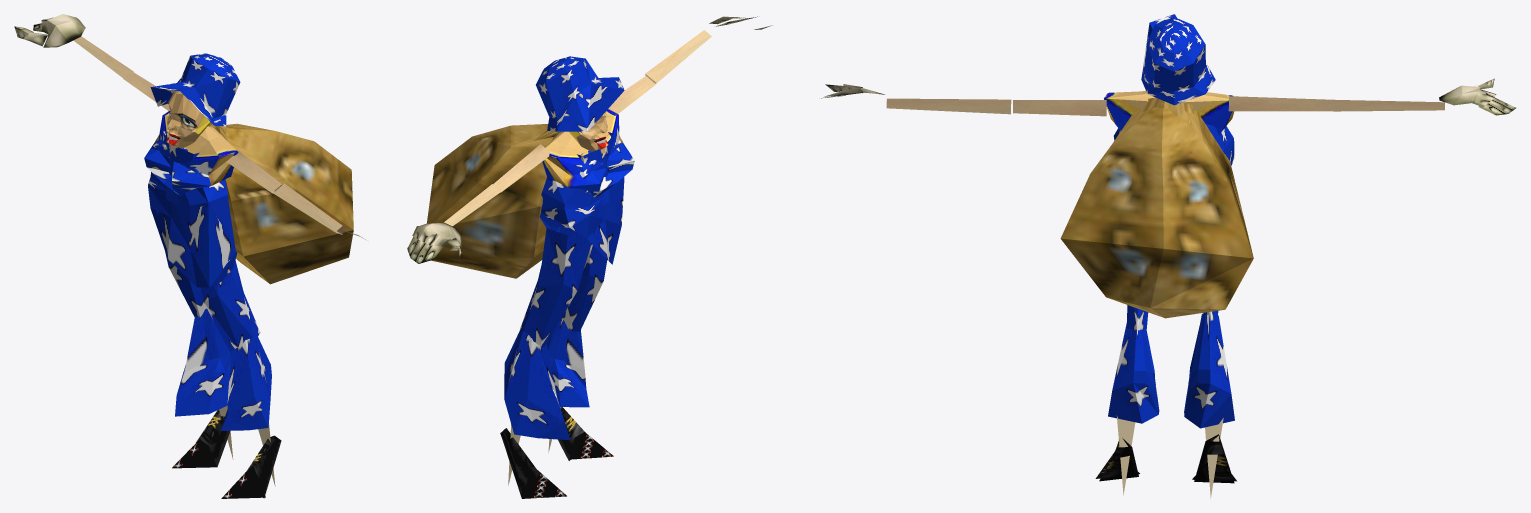
Rendered from NiclaByron_2943.glb.
3 views of the same model, side by side, from view 1: azimuth 30°, elevation 25°; view 2: azimuth 150°, elevation 25°; view 3: azimuth 270°, elevation 25° (orthographic). The views are drawn at different scales.
Visible parts, largest first — view 1: Bag3, pSphereShape4, polySurfaceShape96, polySurfaceShape98, pSphereShape2, pSphereShape20, polySurfaceShape68, polySurfaceShape1, polySurfaceShape60, polySurfaceShape71, pCylinderShape13, polySurfaceShape70 (+7 smaller); view 2: Bag3, polySurfaceShape96, polySurfaceShape97, pSphereShape20, pSphereShape4, pSphereShape2, polySurfaceShape98, polySurfaceShape68, pCylinderShape7, polySurfaceShape71, polySurfaceShape72, polySurfaceShape1 (+9 smaller); view 3: Bag3, pSphereShape20, polySurfaceShape96, polySurfaceShape98, pSphereShape2, polySurfaceShape71, polySurfaceShape72, polySurfaceShape70, polySurfaceShape73, pCylinderShape7, pCylinderShape13.
Part boxes in pixels (<box>): Bag3: <box>225,123,353,284</box>; pSphereShape4: <box>148,139,237,287</box>; polySurfaceShape96: <box>175,308,231,416</box>; polySurfaceShape98: <box>220,335,271,430</box>; pSphereShape2: <box>144,111,238,196</box>; pSphereShape20: <box>150,53,240,126</box>; polySurfaceShape68: <box>201,260,260,354</box>; polySurfaceShape1: <box>166,80,211,149</box>; polySurfaceShape60: <box>43,14,85,47</box>; polySurfaceShape71: <box>273,183,342,234</box>; pCylinderShape13: <box>246,435,281,498</box>; polySurfaceShape70: <box>226,151,281,193</box>; Bag3: <box>427,124,553,278</box>; polySurfaceShape96: <box>504,329,570,440</box>; polySurfaceShape97: <box>520,226,595,347</box>; pSphereShape20: <box>536,56,624,131</box>; pSphereShape4: <box>540,144,624,264</box>; pSphereShape2: <box>542,109,634,197</box>; polySurfaceShape98: <box>546,319,589,407</box>; polySurfaceShape68: <box>561,243,607,331</box>; pCylinderShape7: <box>500,428,539,498</box>; polySurfaceShape71: <box>645,30,711,83</box>; polySurfaceShape72: <box>492,144,549,192</box>; polySurfaceShape1: <box>560,93,608,153</box>; Bag3: <box>1060,107,1253,318</box>; pSphereShape20: <box>1141,14,1215,105</box>; polySurfaceShape96: <box>1184,313,1234,428</box>; polySurfaceShape98: <box>1108,322,1159,423</box>; pSphereShape2: <box>1104,90,1234,135</box>; polySurfaceShape71: <box>886,98,1011,114</box>; polySurfaceShape72: <box>1228,96,1333,111</box>; polySurfaceShape70: <box>1013,100,1106,116</box>; polySurfaceShape73: <box>1333,99,1444,111</box>; pCylinderShape7: <box>1194,434,1234,483</box>; pCylinderShape13: <box>1099,438,1138,481</box>.
Size of the model in its own units: 0.0881 by 0.1839 by 0.2629.
34 materials, 30 textured.
